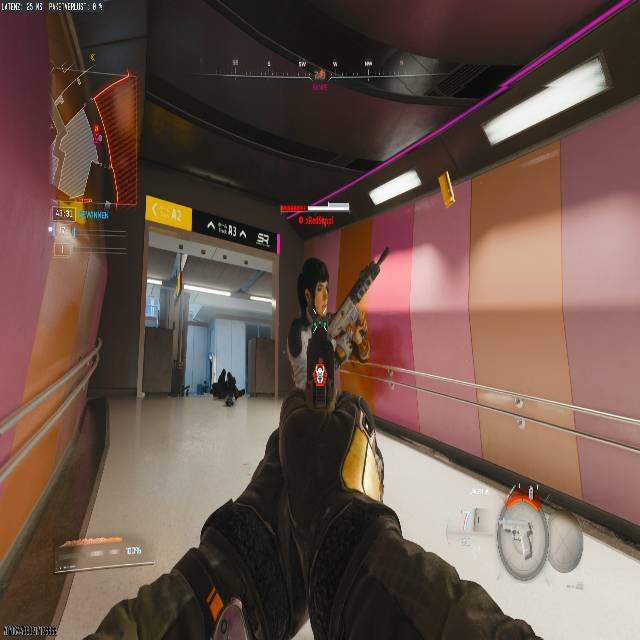player: (212, 369, 243, 407)
